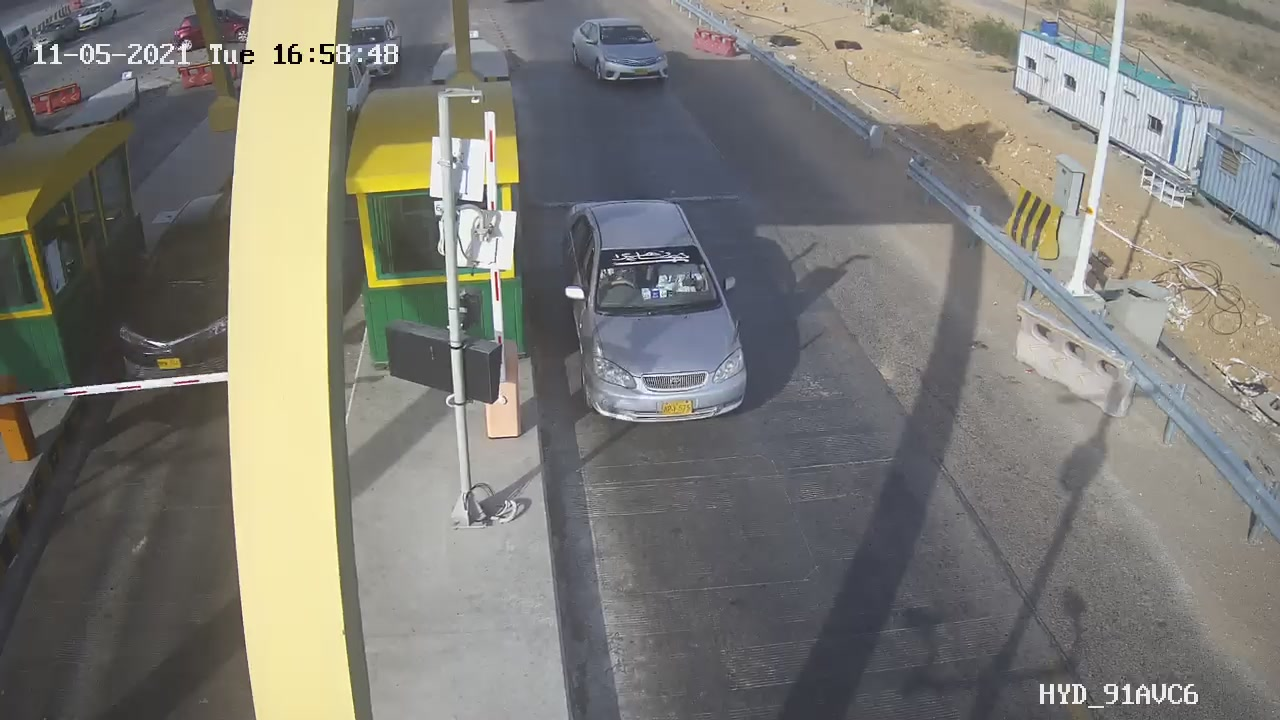F1: (542, 182, 770, 443), (563, 8, 679, 98)
